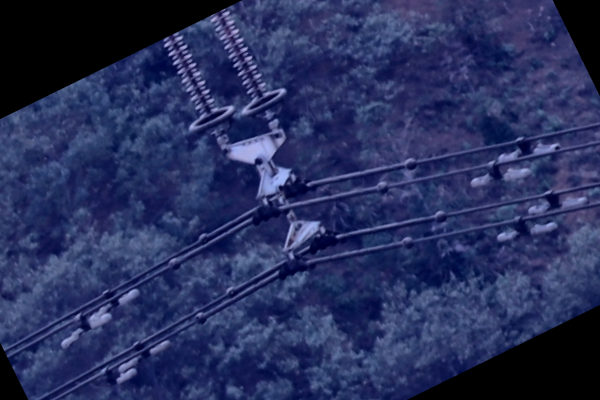damper: (58, 312, 113, 350), (119, 337, 173, 371), (466, 161, 533, 188), (89, 286, 142, 320), (526, 187, 590, 215), (495, 136, 563, 162), (494, 216, 559, 243)
damper_defect: (97, 366, 138, 390)
